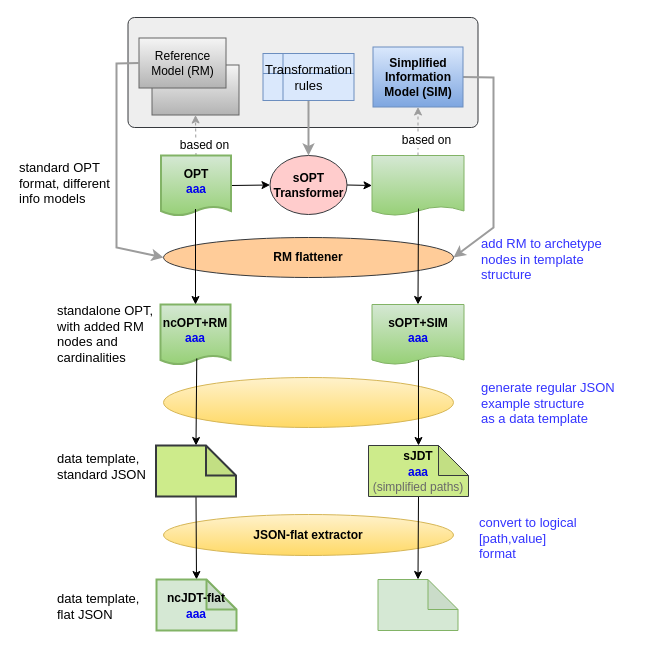
Image size: 646x649. Some labels were removed from this diagram. The centre of each missing label's shape, as x and y in pixels:
"Base Model (BASE)" belongs at [195,89].
"JDT generator path option : aql | simplified" belongs at [308,402].
"ncJDT aaa (aql paths)" belongs at [195,470].
"Simplified OPT (sOPT) aaa" belongs at [417,185].
"sJDT-flat aaa" belongs at [417,604].
